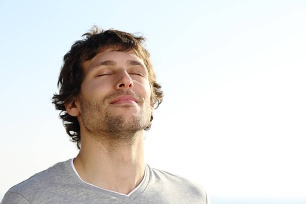male: (47, 29, 164, 155)
